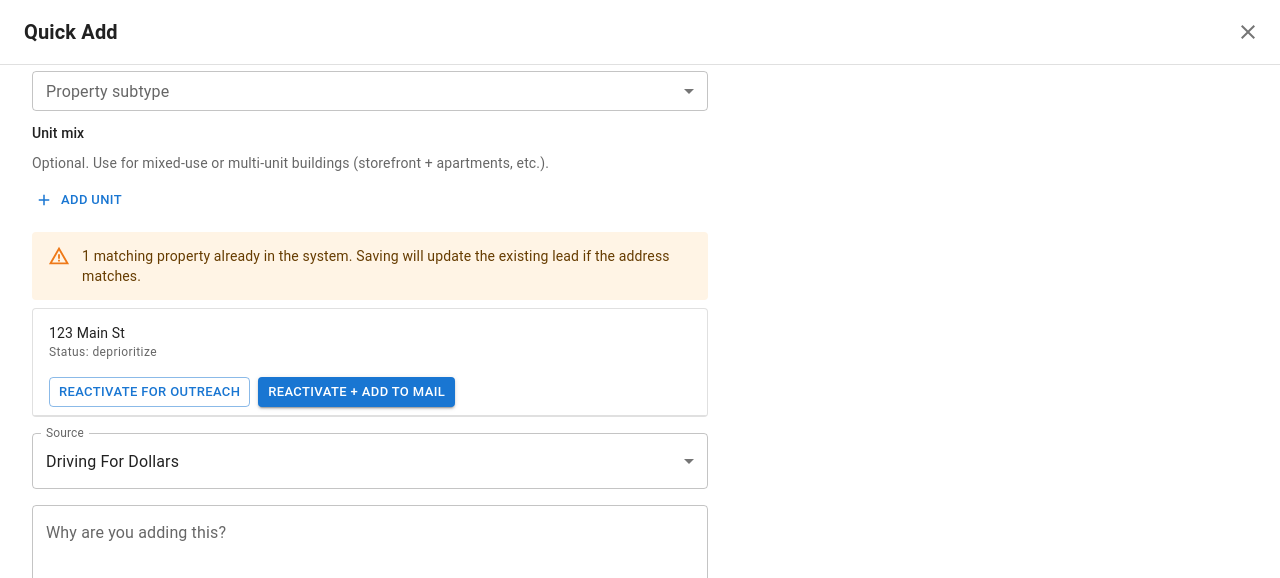
Test: QuickAddPage deprioritized matches › reactivates an existing lead for outreach
(page scrolled)
Click the button with aria-label "Reactivate 123 Main St for outreach". click: [150, 392]
box: [49,377,250,407]
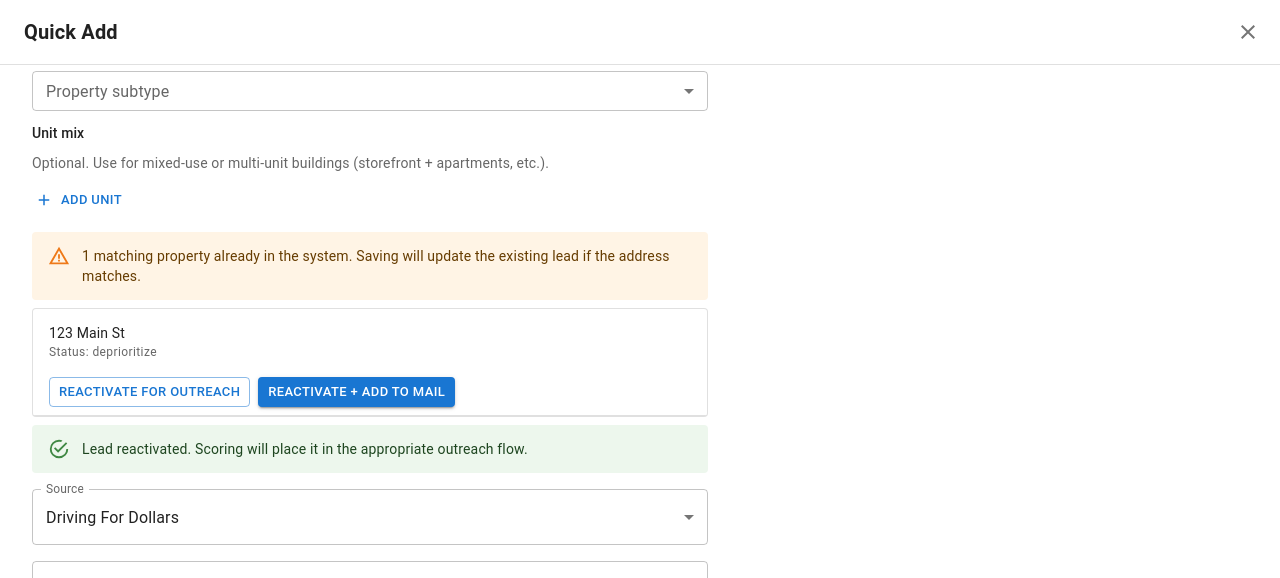
Expected: the text "appropriate outreach flow" is shown, [82,441,528,457]
